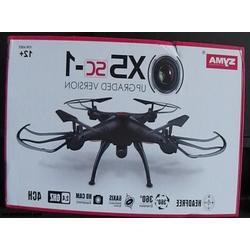drone: (16, 96, 228, 190)
